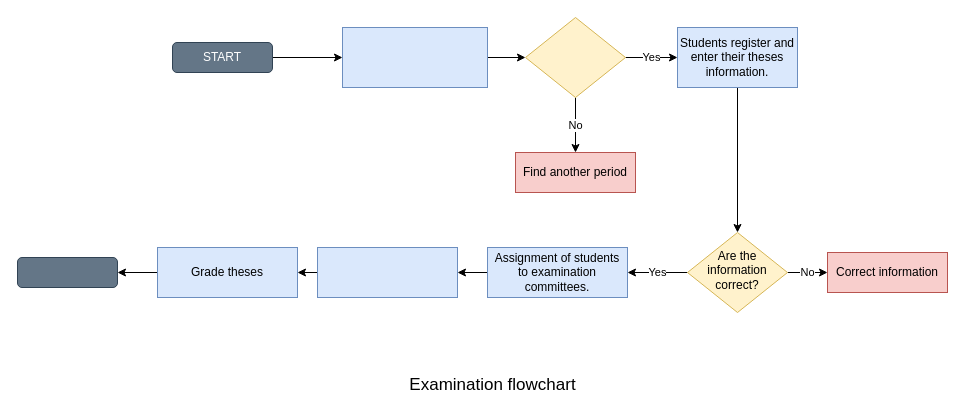
This 965x418 diagram has some shape labels left out. The centre of each missing label's shape, as x and y in pixels:
Is selected period correct?: pixel 575 57
Select the period in which students can register for the exam: pixel 415 57
Select the subjects from which the students will answer: pixel 387 272
STOP: pixel 67 272
